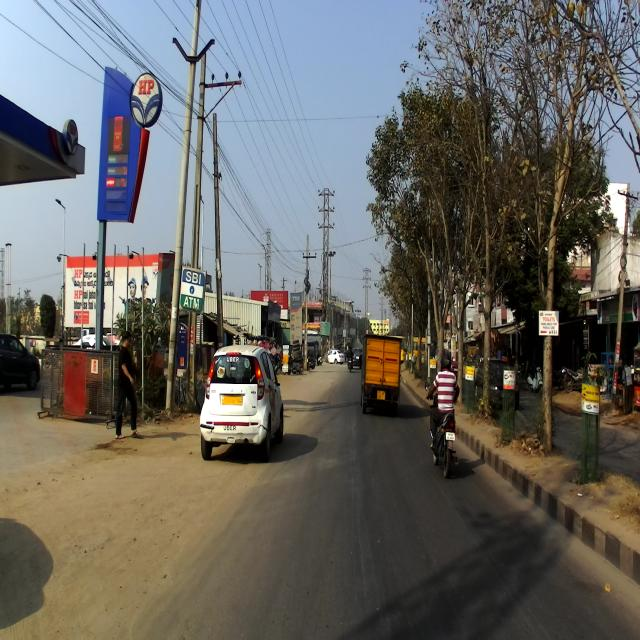car ahead at: (196, 344, 290, 469)
motorcycle ahead at: (428, 406, 463, 482)
person ahead at: (113, 333, 146, 444)
truck ahead at: (362, 335, 406, 415)
